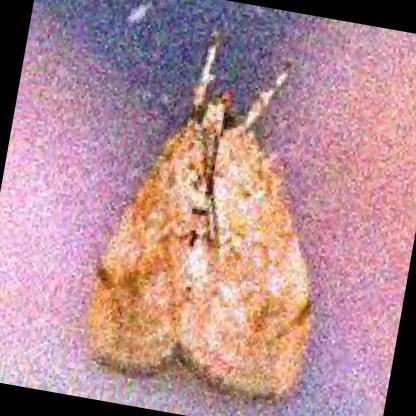Leaf Webber: (86, 35, 317, 400)
